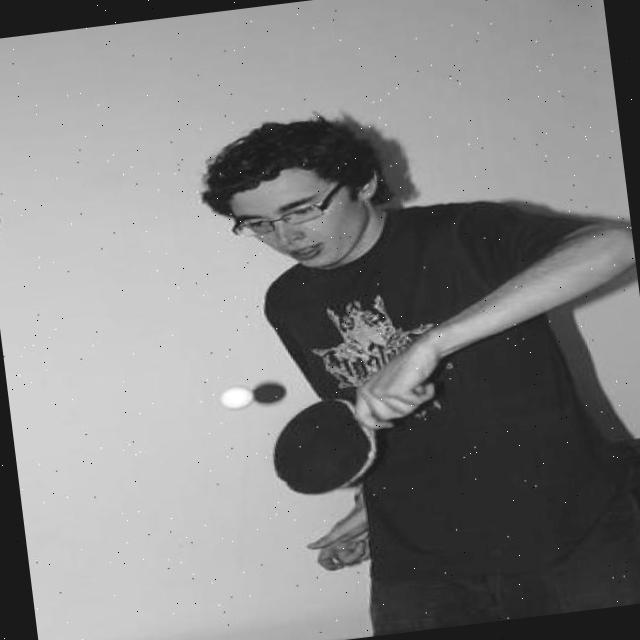ping-pong-ball: (214, 382, 254, 410)
